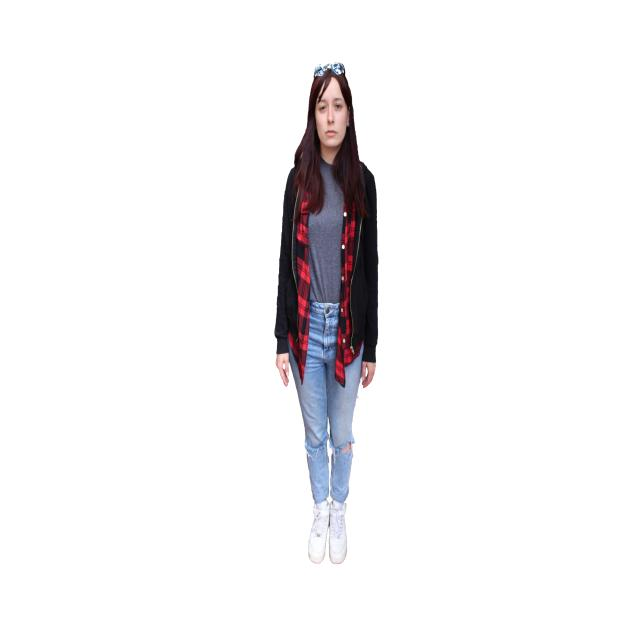jovem: (264, 50, 397, 571)
